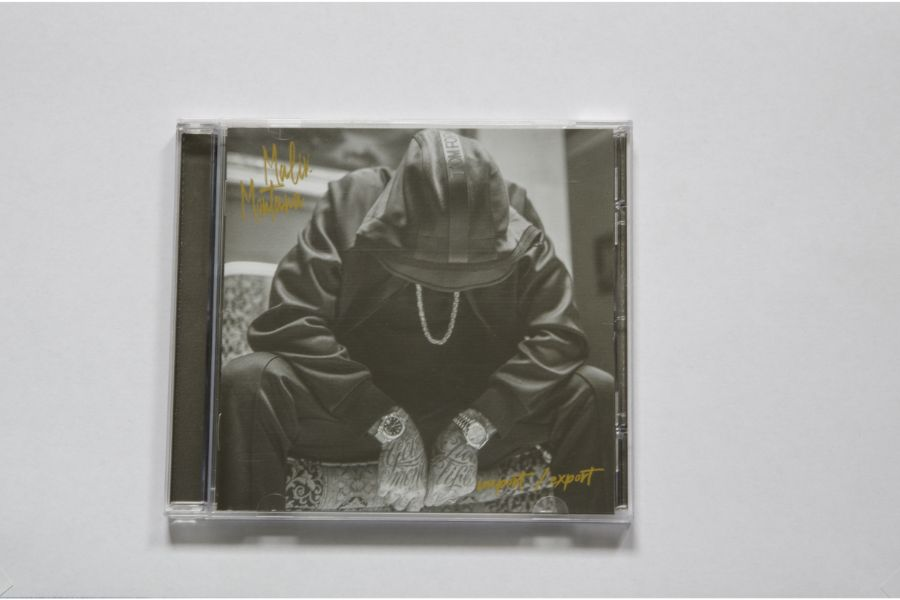album: (164, 119, 638, 526)
